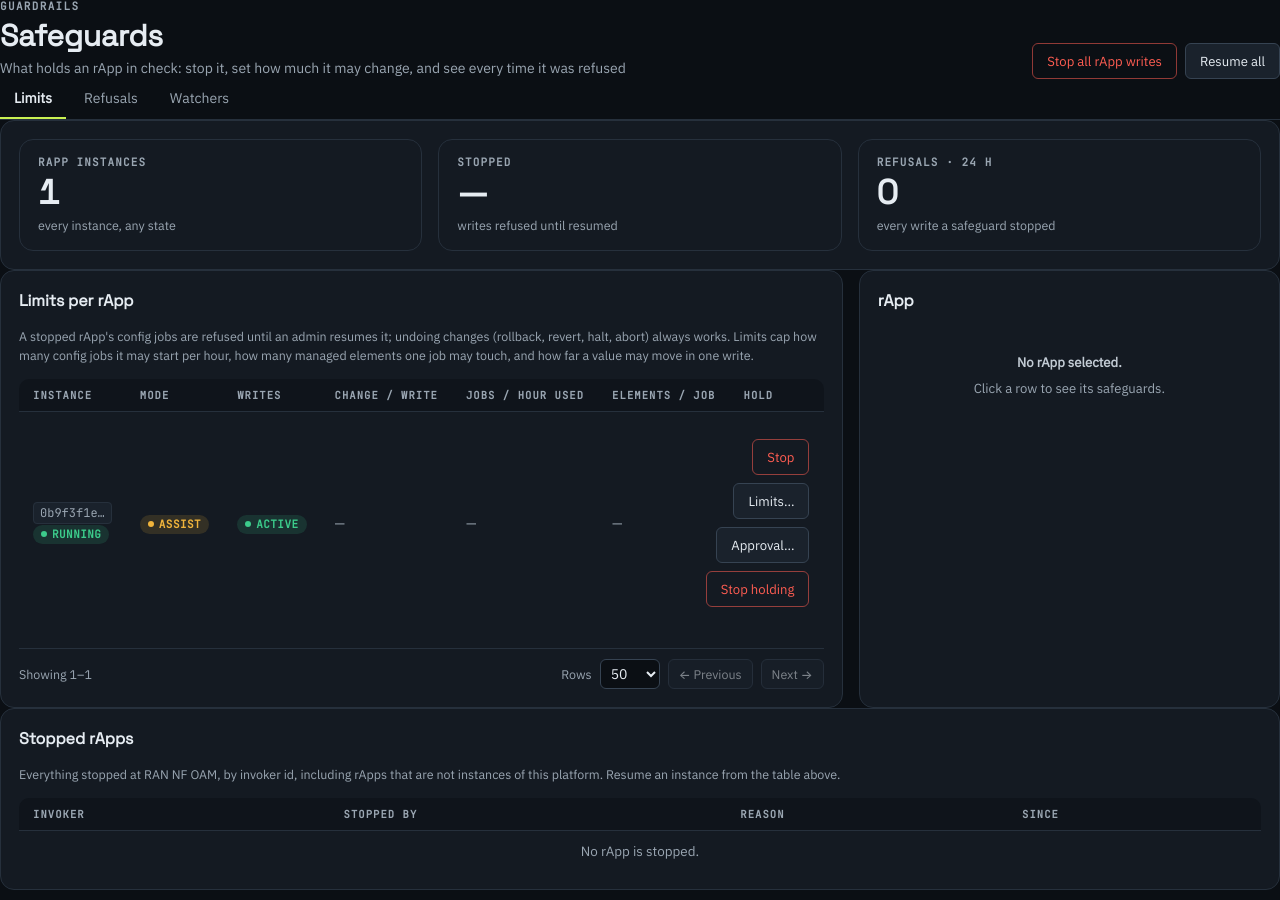
Test case: holding an rApp's changes for approval (AI-11.4) › shows a policy that asks for two approvals, and opens its dialog with two selected
Click the button "Approval…". click: coordinates (763, 545)
box: [716,527,810,563]
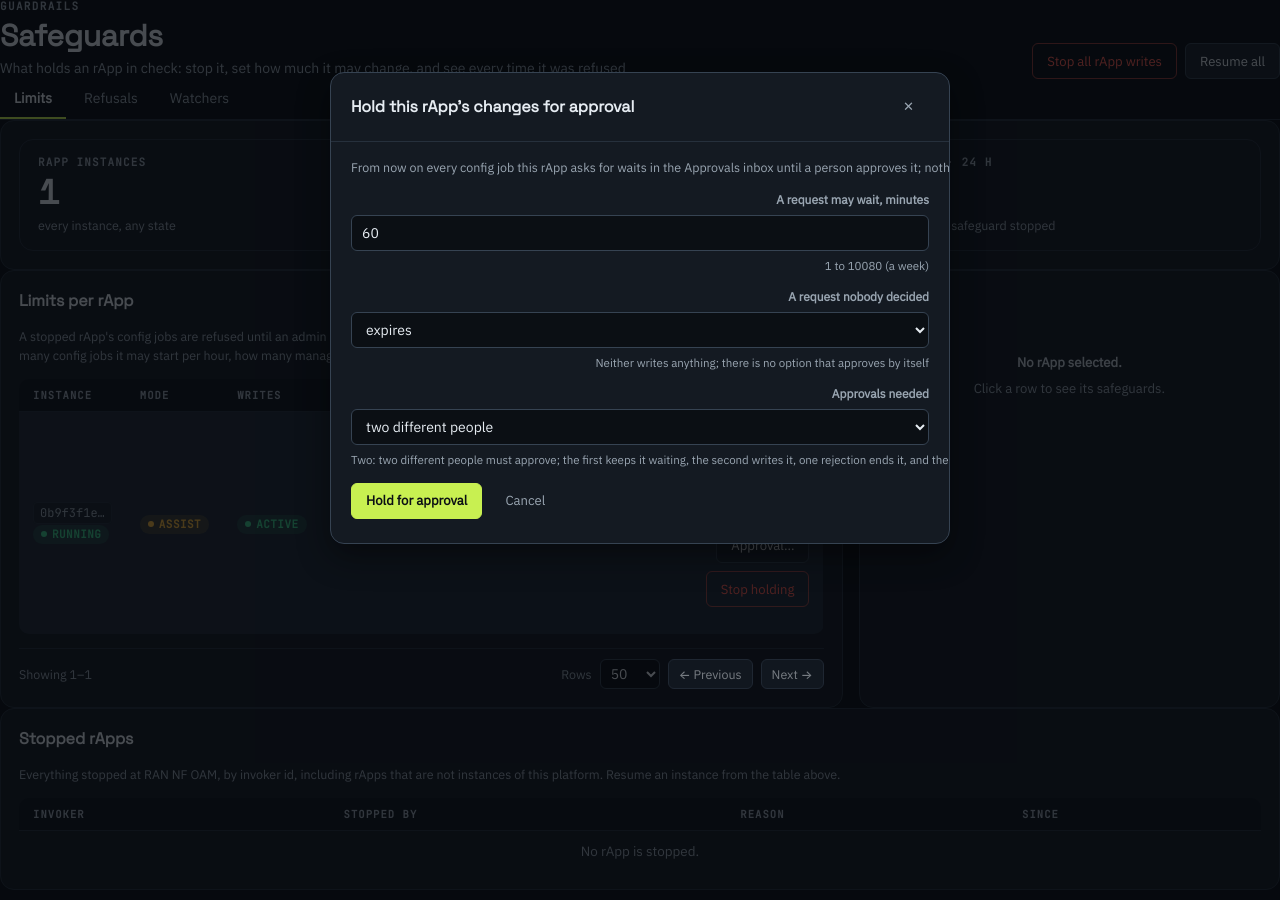
Now the 2nd dropdown shows "two different people", box [351,409,929,445]
